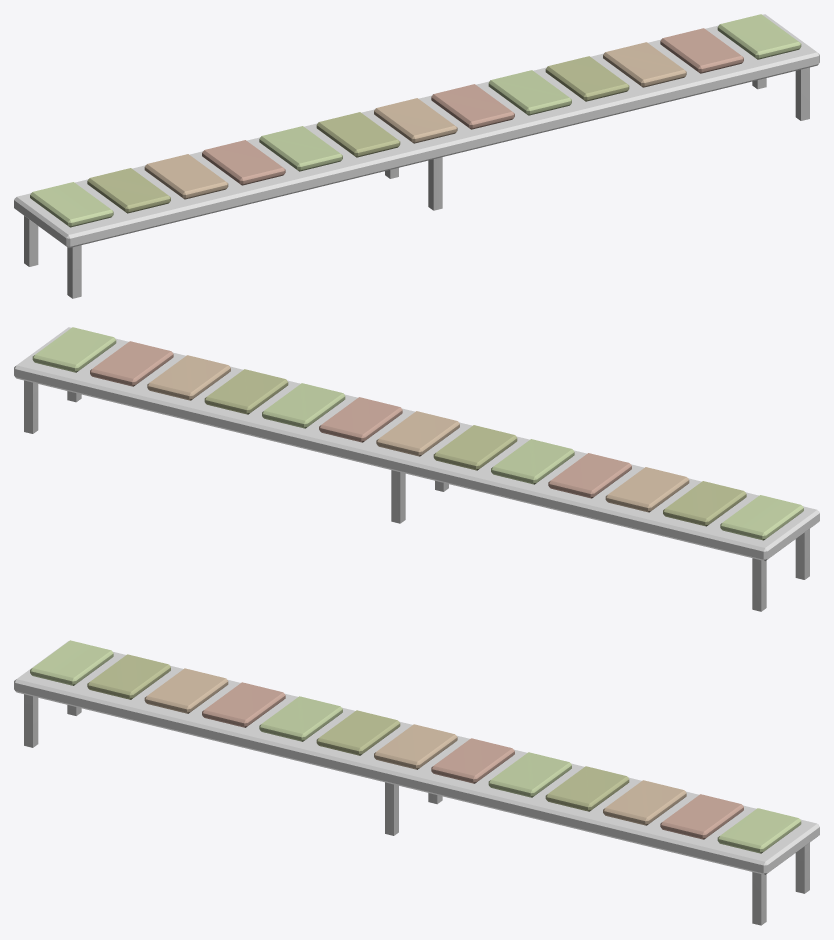
File: drying_bed_front.glb
3 renders of one model, top to bottom at view 1: azimuth 30°, elevation 25°; view 2: azimuth 150°, elevation 25°; view 3: azimuth 330°, elevation 25°, orthographic.
Visible parts, largest first — view 1: drying_bed; view 2: drying_bed; view 3: drying_bed.
Boxes of the visible parts, box(x1,y1,x2,y2) form: drying_bed: box(14, 14, 819, 298); drying_bed: box(14, 327, 819, 611); drying_bed: box(14, 640, 819, 925).
Bounding box in the file's own units: 5.92 × 0.56 × 0.75.
